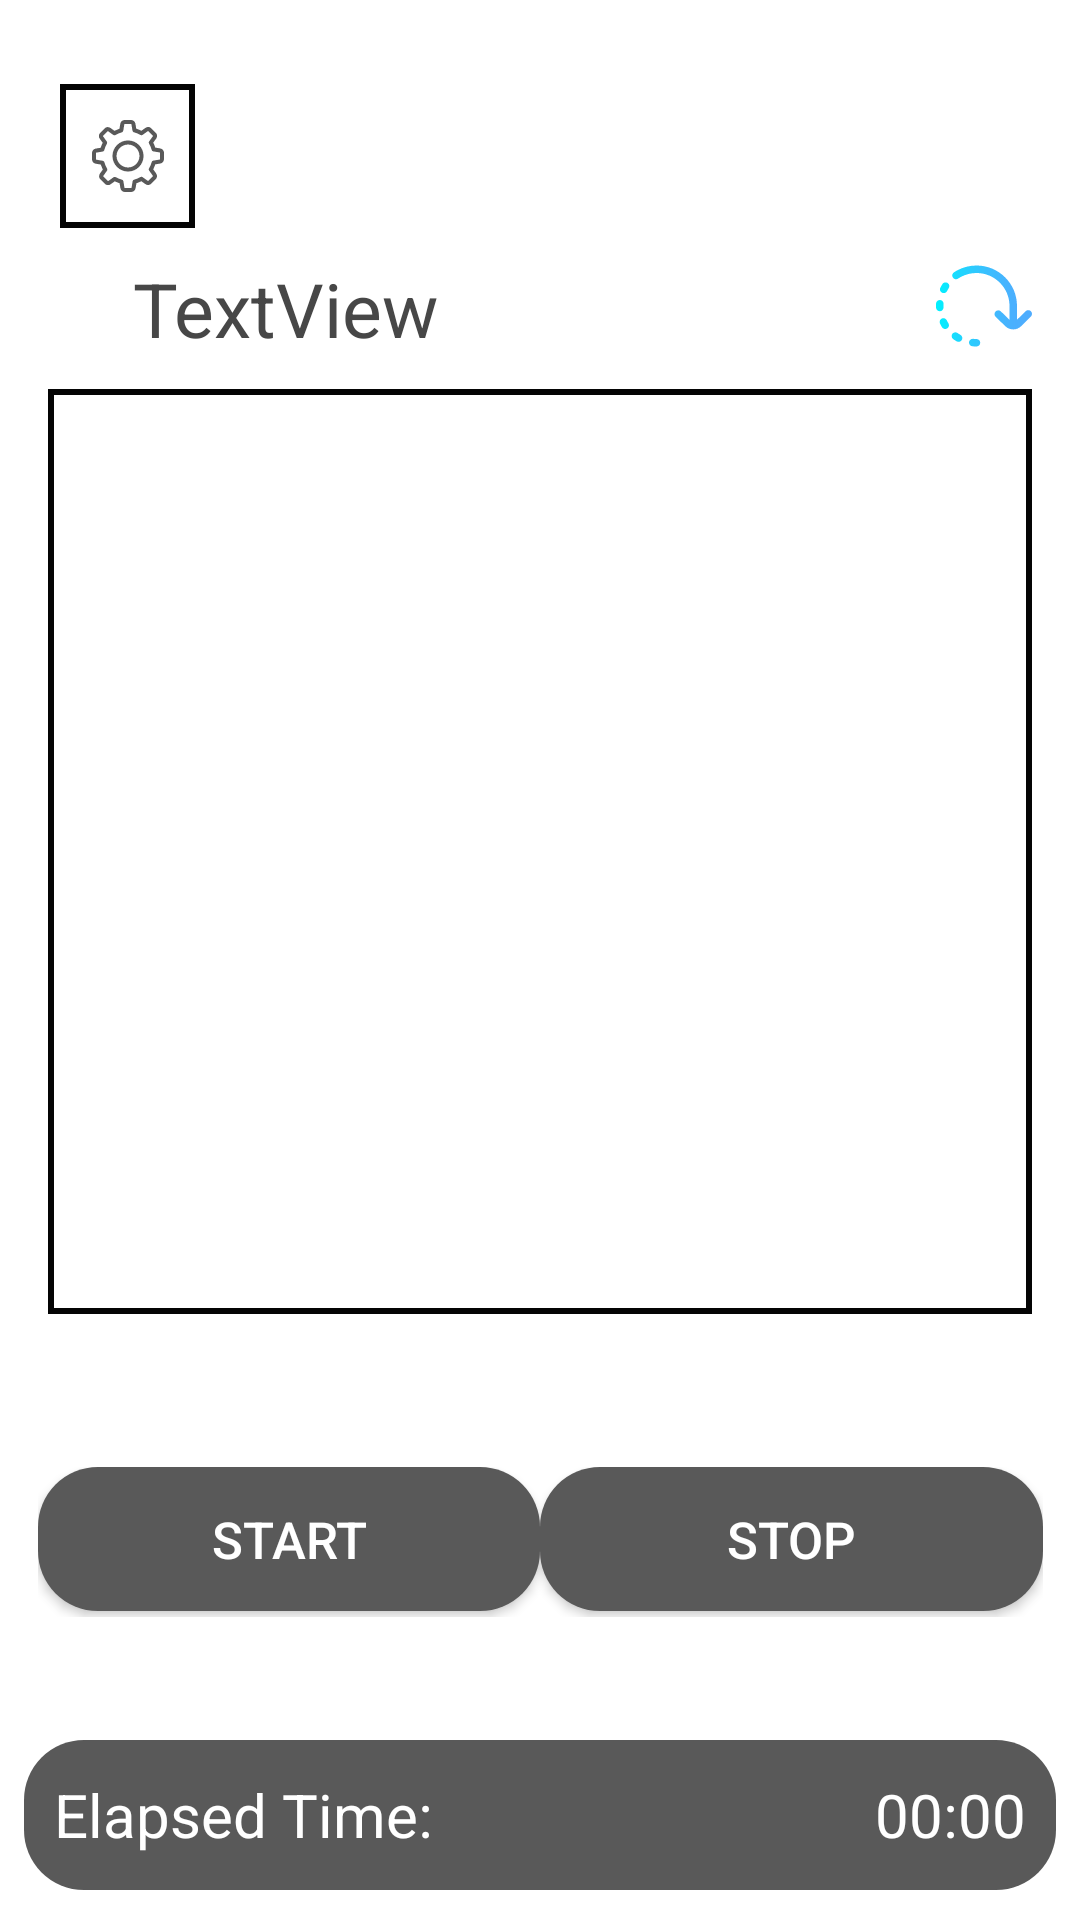

Named icons in this screenshot (1080 x 1920) and their bounding boxes, (x1, y1, x2, y2):
Refreshing Streams: (936, 265, 1032, 347)
settings: (60, 84, 195, 228)
